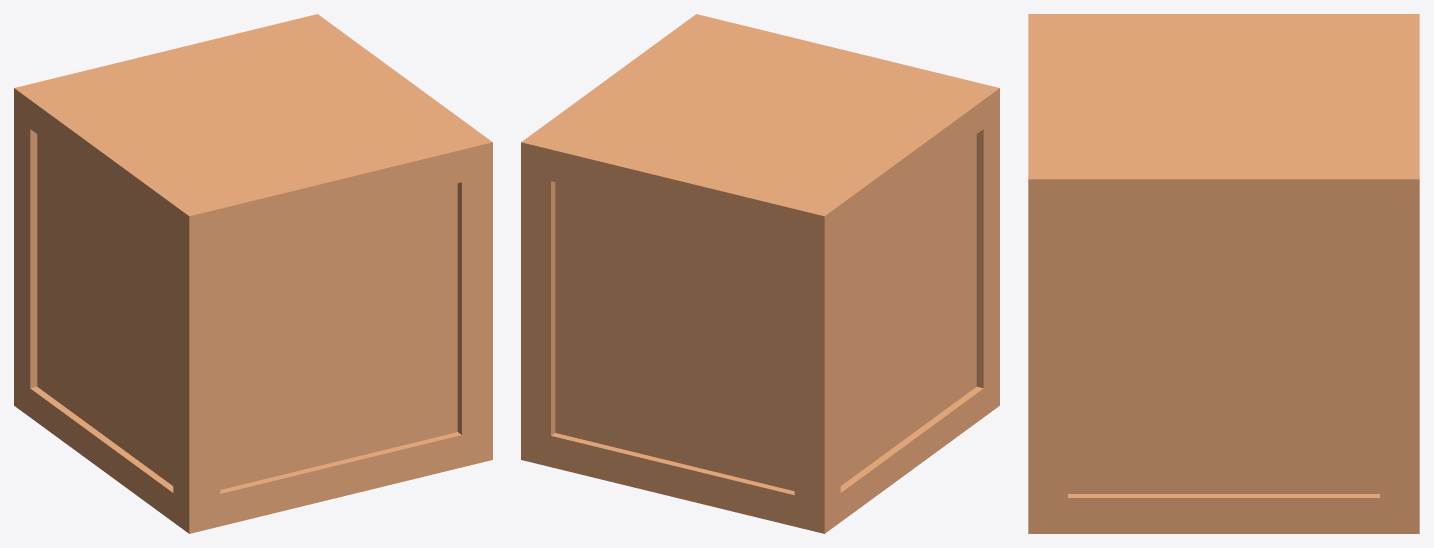
The model's file is Ground_009.fbx.
The picture shows the model from 3 angles, left to right: view 1: azimuth 30°, elevation 25°; view 2: azimuth 150°, elevation 25°; view 3: azimuth 270°, elevation 25°; orthographic projection. The views are drawn at different scales.
Visible parts, largest first — view 1: Ground.009; view 2: Ground.009; view 3: Ground.009.
Part boxes in pixels (box(x1,y1,x2,y2)): Ground.009: box(14, 14, 492, 533); Ground.009: box(521, 14, 999, 533); Ground.009: box(1028, 14, 1419, 533).
Bounding box in the file's own units: 100 × 100 × 100.
